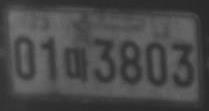0: (13, 36, 37, 79), (145, 42, 168, 86)
1: (39, 36, 61, 81)
3: (171, 42, 195, 87), (93, 37, 116, 83)
8: (119, 39, 142, 84)
마: (64, 46, 89, 84)
